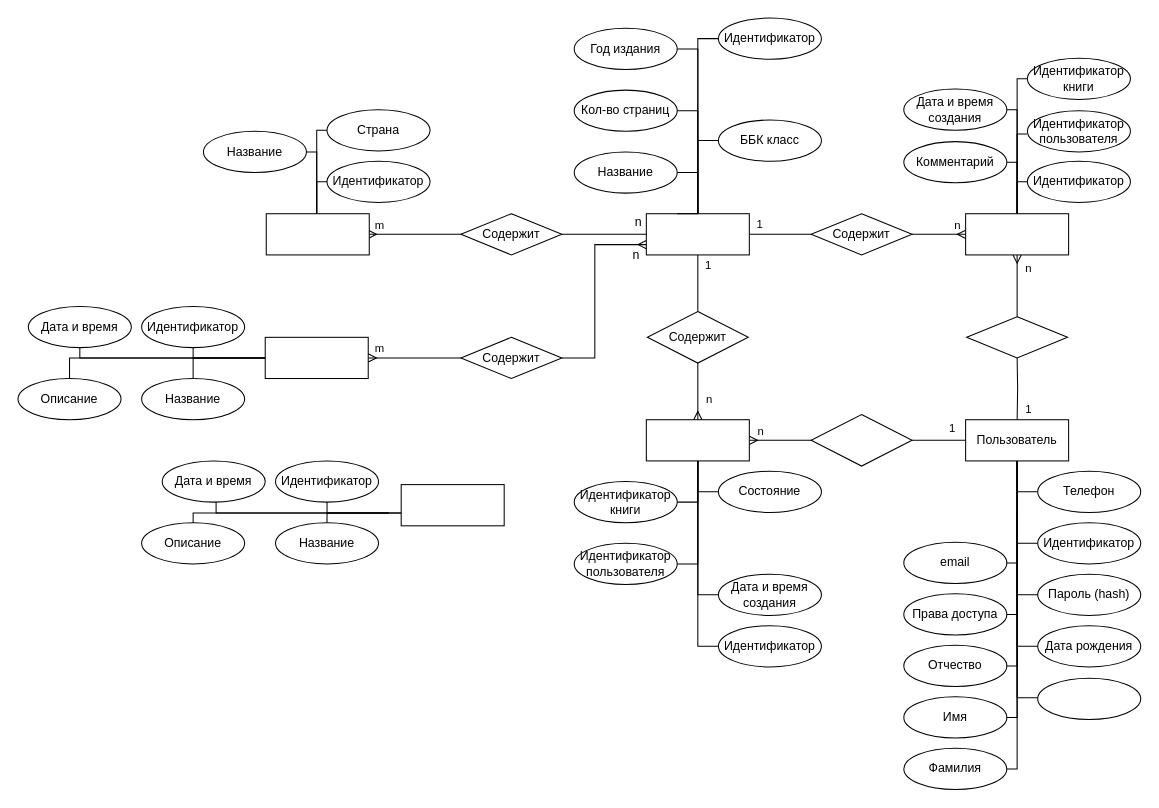
The diagram is 1159 pixels wide and 808 high, and some of its shapes have lost their labels. Each missing label, with the centre of its shape:
"Автор" goes at point 317,234.
"Заявка" goes at point 697,440.
"Книга" goes at point 697,234.
"Новость" goes at point 452,505.
"Оставить" goes at point 1017,337.
"Отзывы" goes at point 1017,234.
"Подборка" goes at point 316,357.
"Пол" goes at point 1089,698.
"Создать" goes at point 861,440.
